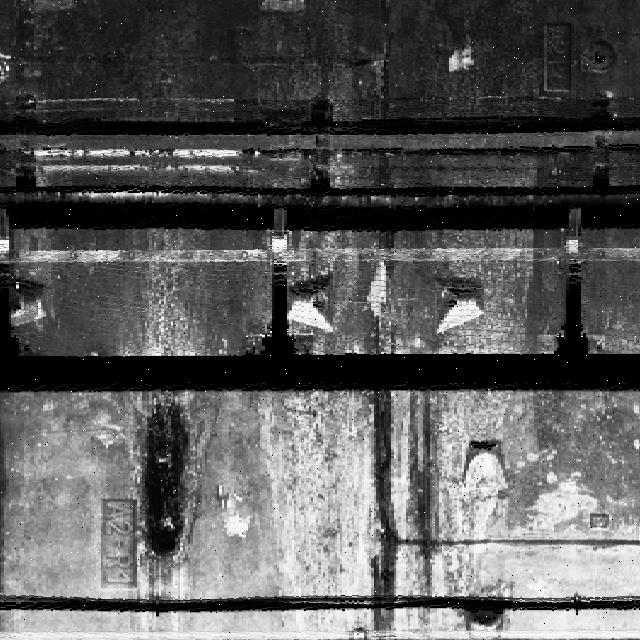leakage: (355, 391, 447, 638), (133, 400, 205, 567)
